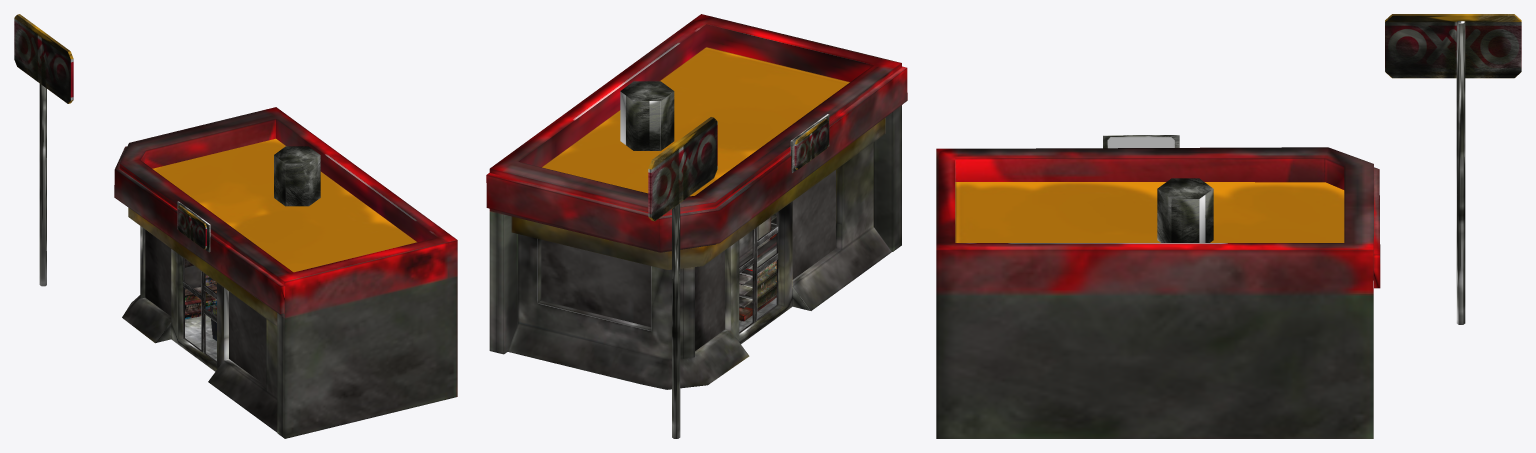
3 views of the same model, side by side, from view 1: azimuth 30°, elevation 25°; view 2: azimuth 150°, elevation 25°; view 3: azimuth 270°, elevation 25° (orthographic). The views are drawn at different scales.
Visible parts, largest first — view 1: entrada, ine, oxxo, interior, pasillos; view 2: ine, entrada, interior, oxxo, pasillos; view 3: entrada, ine, oxxo.
Boxes of the visible parts, left/top/right/bottom form: entrada: left=114, top=107, right=457, bottom=438; ine: left=122, top=138, right=416, bottom=432; oxxo: left=14, top=14, right=320, bottom=286; interior: left=145, top=230, right=266, bottom=385; pasillos: left=185, top=259, right=216, bottom=340; ine: left=507, top=47, right=891, bottom=389; entrada: left=486, top=14, right=907, bottom=354; interior: left=541, top=170, right=835, bottom=358; oxxo: left=620, top=81, right=829, bottom=438; pasillos: left=739, top=213, right=776, bottom=321; entrada: left=936, top=147, right=1380, bottom=438; ine: left=955, top=182, right=1344, bottom=242; oxxo: left=1103, top=14, right=1521, bottom=324.
Bounding box in the file's own units: 5.9 × 7.17 × 12.37.
5 materials, 5 textured.
